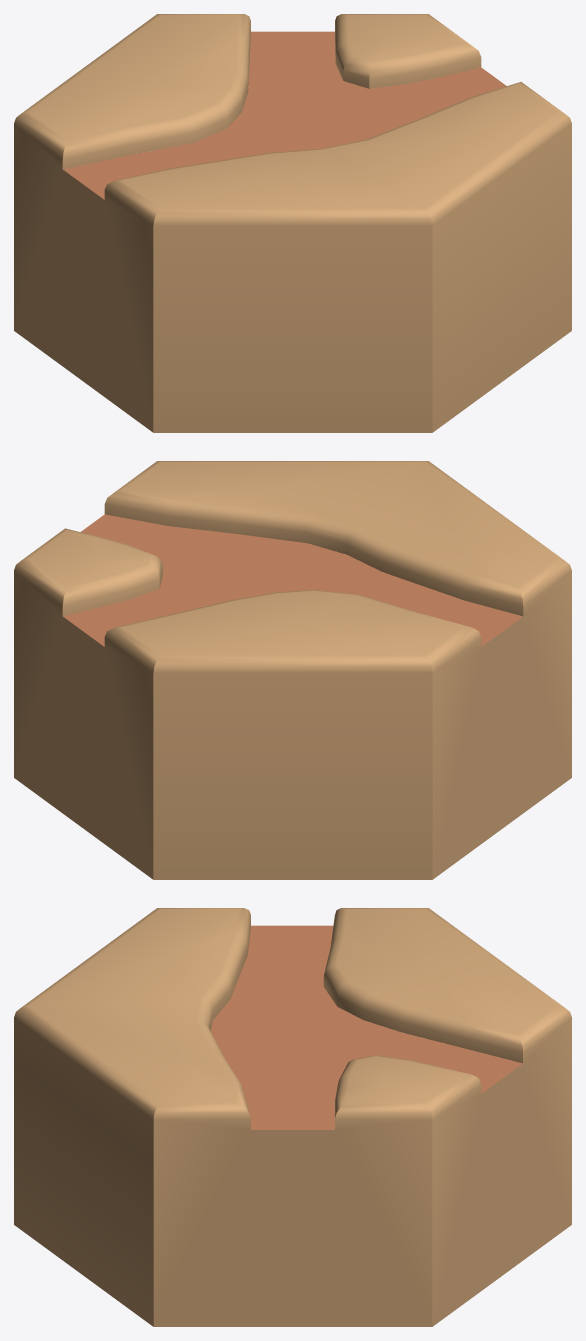
The model's file is hex_sand_roadF.glb.
3 views of the same model, one above another, from view 1: azimuth 30°, elevation 25°; view 2: azimuth 150°, elevation 25°; view 3: azimuth 270°, elevation 25° (orthographic).
Parts seen in each view (by area): view 1: hex_sand_roadF; view 2: hex_sand_roadF; view 3: hex_sand_roadF.
Boxes of the visible parts, box(x1,y1,x2,y2) form: hex_sand_roadF: box(14, 14, 571, 432); hex_sand_roadF: box(14, 461, 571, 879); hex_sand_roadF: box(14, 908, 571, 1326).
Size of the model in its own units: 2 by 1 by 2.31.
